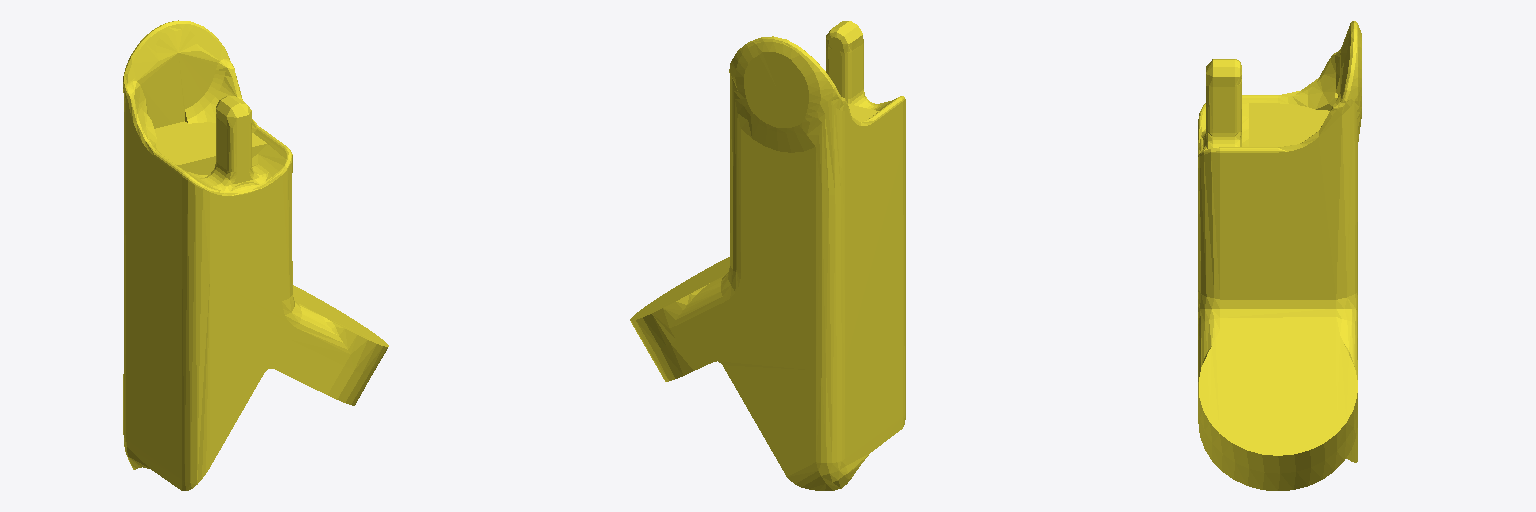
robot.urdf — shadow_hand:
<?xml version="1.0" ?>
<robot name="shadow_hand">

    <!-- Forearm-Wrist-Palm Links -->
    <link name="hand_root">
        <origin xyz="0 0 0"/>
    </link>
    <joint name="root_to_base" type="fixed">
        <parent link="hand_root"/>
        <child link="palm"/>
        <origin xyz="0 0 0.0"/>
    </joint>
    <link name="palm">
        <visual>
            <geometry name="palm_visual">
                <mesh filename="../shadow_hand/meshes/visual/palm.dae"/>
            </geometry>
        </visual>
        <inertial>
            <origin rpy="0 0 0" xyz="0 0 0.0"/>
            <mass value="0.4154"/>
            <inertia ixx="1e-4" ixy="0.0" ixz="0.0" iyy="1e-4" iyz="0.0" izz="1e-4"/>
        </inertial>
    </link>

    <!-- Thumb Links -->
    <link name="thumb_base">
        <inertial>
            <origin rpy="0 0 0" xyz="0 0 0.0"/>
            <mass value="0.4154"/>
            <inertia ixx="1e-4" ixy="0.0" ixz="0.0" iyy="1e-4" iyz="0.0" izz="1e-4"/>
        </inertial>
    </link>

    <link name="thumb_proximal">
        <visual>
            <geometry name="thumb_proximal_visual">
                <mesh filename="../shadow_hand/meshes/visual/thumb_proximal.dae"/>
            </geometry>
        </visual>
        <inertial>
            <origin rpy="0 0 0" xyz="0 0 0.0"/>
            <mass value="0.4154"/>
            <inertia ixx="1e-4" ixy="0.0" ixz="0.0" iyy="1e-4" iyz="0.0" izz="1e-4"/>
        </inertial>
    </link>

    <link name="thumb_hub">
        <inertial>
            <origin rpy="0 0 0" xyz="0 0 0.0"/>
            <mass value="0.4154"/>
            <inertia ixx="1e-4" ixy="0.0" ixz="0.0" iyy="1e-4" iyz="0.0" izz="1e-4"/>
        </inertial>
    </link>

    <link name="thumb_middle">
        <visual>
            <geometry name="thumb_middle_visual">
                <mesh filename="../shadow_hand/meshes/visual/thumb_middle.dae"/>
            </geometry>
        </visual>
        <inertial>
            <origin rpy="0 0 0" xyz="0 0 0.0"/>
            <mass value="0.4154"/>
            <inertia ixx="1e-4" ixy="0.0" ixz="0.0" iyy="1e-4" iyz="0.0" izz="1e-4"/>
        </inertial>
    </link>

    <link name="thumb_distal">
        <visual>
            <geometry name="thumb_distal_visual">
                <mesh filename="../shadow_hand/meshes/visual/thumb_distal.dae"/>
            </geometry>
        </visual>
        <inertial>
            <origin rpy="0 0 0" xyz="0 0 0.0"/>
            <mass value="0.4154"/>
            <inertia ixx="1e-4" ixy="0.0" ixz="0.0" iyy="1e-4" iyz="0.0" izz="1e-4"/>
        </inertial>
    </link>


    <!-- Thumb Joints -->
    <joint name="thumb_joint1" type="revolute">
        <parent link="palm"/>
        <child link="thumb_base"/>
        <origin rpy="0 0.785398163397 0.0" xyz="0.034 -0.0085 0.029"/>
        <axis xyz="0 0 -1"/>
        <limit effort="4.0" lower="-1.0471975512" upper="1.0471975512" velocity="4.0"/>
    </joint>

    <joint name="thumb_joint2" type="revolute">
        <parent link="thumb_base"/>
        <child link="thumb_proximal"/>
        <axis xyz="1 0 0"/>
        <limit effort="4.0" lower="0.0" upper="1.2217304764" velocity="4.0"/>
    </joint>

    <joint name="thumb_joint3" type="revolute">
        <parent link="thumb_proximal"/>
        <child link="thumb_hub"/>
        <origin rpy="0 0 0" xyz="0 0 0.038"/>
        <axis xyz="1 0 0"/>
        <limit effort="4.0" lower="-0.209439510239" upper="0.209439510239" velocity="4.0"/>
    </joint>

    <joint name="thumb_joint4" type="revolute">
        <parent link="thumb_hub"/>
        <child link="thumb_middle"/>
        <axis xyz="0 -1 0"/>
        <limit effort="4.0" lower="-0.698131700798" upper="0.698131700798" velocity="2.0"/>
    </joint>

    <joint name="thumb_joint5" type="revolute">
        <parent link="thumb_middle"/>
        <child link="thumb_distal"/>
        <origin rpy="0 0 -1.57079632679" xyz="0 0 0.032"/>
        <axis xyz="1 0 0"/>
        <limit effort="4.0" lower="0" upper="1.57079632679" velocity="4.0"/>
    </joint>


    <!-- Index Finger Links -->
    <link name="index_finger_knuckle">
        <visual>
            <origin rpy="0 0 0" xyz="0 0 0.0005"/>
            <geometry name="index_finger_knuckle_visual">
                <mesh filename="../shadow_hand/meshes/visual/knuckle.dae"/>
            </geometry>
        </visual>
        <inertial>
            <origin rpy="0 0 0" xyz="0 0 0.0"/>
            <mass value="0.4154"/>
            <inertia ixx="1e-4" ixy="0.0" ixz="0.0" iyy="1e-4" iyz="0.0" izz="1e-4"/>
        </inertial>
    </link>

    <link name="index_finger_proximal">
        <visual>
            <geometry name="index_finger_proximal_visual">
                <mesh filename="../shadow_hand/meshes/visual/finger_proximal.dae"/>
            </geometry>
        </visual>
        <inertial>
            <origin rpy="0 0 0" xyz="0 0 0.0"/>
            <mass value="0.4154"/>
            <inertia ixx="1e-4" ixy="0.0" ixz="0.0" iyy="1e-4" iyz="0.0" izz="1e-4"/>
        </inertial>
    </link>

    <link name="index_finger_middle">
        <visual>
            <geometry name="index_finger_middle_visual">
                <mesh filename="../shadow_hand/meshes/visual/finger_middle.dae"/>
            </geometry>
        </visual>
        <inertial>
            <origin rpy="0 0 0" xyz="0 0 0.0"/>
            <mass value="0.4154"/>
            <inertia ixx="1e-4" ixy="0.0" ixz="0.0" iyy="1e-4" iyz="0.0" izz="1e-4"/>
        </inertial>
    </link>

    <link name="index_finger_distal">
        <visual>
            <geometry name="index_finger_distal_visual">
                <mesh filename="../shadow_hand/meshes/visual/finger_distal.dae"/>
            </geometry>
        </visual>
        <inertial>
            <origin rpy="0 0 0" xyz="0 0 0.0"/>
            <mass value="0.4154"/>
            <inertia ixx="1e-4" ixy="0.0" ixz="0.0" iyy="1e-4" iyz="0.0" izz="1e-4"/>
        </inertial>
    </link>


    <!-- Index Finger Joints -->
    <joint name="index_finger_joint1" type="revolute">
        <parent link="palm"/>
        <child link="index_finger_knuckle"/>
        <origin rpy="0 0 0" xyz="0.033 0 0.095"/>
        <axis xyz="0 -1 0"/>
        <limit effort="4.0" lower="-0.349065850399" upper="0.349065850399" velocity="2.0"/>
    </joint>

    <joint name="index_finger_joint2" type="revolute">
        <parent link="index_finger_knuckle"/>
        <child link="index_finger_proximal"/>
        <axis xyz="1 0 0"/>
        <limit effort="4.0" lower="0" upper="1.57079632679" velocity="2.0"/>
    </joint>

    <joint name="index_finger_joint3" type="revolute">
        <parent link="index_finger_proximal"/>
        <child link="index_finger_middle"/>
        <origin rpy="0 0 0" xyz="0 0 0.045"/>
        <axis xyz="1 0 0"/>
        <limit effort="4.0" lower="0" upper="1.57079632679" velocity="2.0"/>
    </joint>

    <joint name="index_finger_joint4" type="revolute">
        <parent link="index_finger_middle"/>
        <child link="index_finger_distal"/>
        <origin rpy="0 0 0" xyz="0 0 0.025"/>
        <axis xyz="1 0 0"/>
        <limit effort="4.0" lower="0" upper="1.57079632679" velocity="2.0"/>
    </joint>


    <!-- Middle Finger Links -->
    <link name="middle_finger_knuckle">
        <visual>
            <origin rpy="0 0 0" xyz="0 0 0.0005"/>
            <geometry name="middle_finger_knuckle_visual">
                <mesh filename="../shadow_hand/meshes/visual/knuckle.dae"/>
            </geometry>
        </visual>
        <inertial>
            <origin rpy="0 0 0" xyz="0 0 0.0"/>
            <mass value="0.4154"/>
            <inertia ixx="1e-4" ixy="0.0" ixz="0.0" iyy="1e-4" iyz="0.0" izz="1e-4"/>
        </inertial>
    </link>

    <link name="middle_finger_proximal">
        <visual>
            <geometry name="middle_finger_proximal_visual">
                <mesh filename="../shadow_hand/meshes/visual/finger_proximal.dae"/>
            </geometry>
        </visual>
        <inertial>
            <origin rpy="0 0 0" xyz="0 0 0.0"/>
            <mass value="0.4154"/>
            <inertia ixx="1e-4" ixy="0.0" ixz="0.0" iyy="1e-4" iyz="0.0" izz="1e-4"/>
        </inertial>
    </link>

    <link name="middle_finger_middle">
        <visual>
            <geometry name="middle_finger_middle_visual">
                <mesh filename="../shadow_hand/meshes/visual/finger_middle.dae"/>
            </geometry>
        </visual>
        <inertial>
            <origin rpy="0 0 0" xyz="0 0 0.0"/>
            <mass value="0.4154"/>
            <inertia ixx="1e-4" ixy="0.0" ixz="0.0" iyy="1e-4" iyz="0.0" izz="1e-4"/>
        </inertial>
    </link>

    <link name="middle_finger_distal">
        <visual>
            <geometry name="middle_finger_distal_visual">
                <mesh filename="../shadow_hand/meshes/visual/finger_distal.dae"/>
            </geometry>
        </visual>
        <inertial>
            <origin rpy="0 0 0" xyz="0 0 0.0"/>
            <mass value="0.4154"/>
            <inertia ixx="1e-4" ixy="0.0" ixz="0.0" iyy="1e-4" iyz="0.0" izz="1e-4"/>
        </inertial>
    </link>


    <!-- Middle Finger Joints -->
    <joint name="middle_finger_joint1" type="revolute">
        <parent link="palm"/>
        <child link="middle_finger_knuckle"/>
        <origin rpy="0 0 0" xyz="0.011 0 0.099"/>
        <axis xyz="0 -1 0"/>
        <limit effort="4.0" lower="-0.349065850399" upper="0.349065850399" velocity="2.0"/>
    </joint>

    <joint name="middle_finger_joint2" type="revolute">
        <parent link="middle_finger_knuckle"/>
        <child link="middle_finger_proximal"/>
        <axis xyz="1 0 0"/>
        <limit effort="4.0" lower="0" upper="1.57079632679" velocity="2.0"/>
    </joint>

    <joint name="middle_finger_joint3" type="revolute">
        <parent link="middle_finger_proximal"/>
        <child link="middle_finger_middle"/>
        <origin rpy="0 0 0" xyz="0 0 0.045"/>
        <axis xyz="1 0 0"/>
        <limit effort="4.0" lower="0" upper="1.57079632679" velocity="2.0"/>
    </joint>

    <joint name="middle_finger_joint4" type="revolute">
        <parent link="middle_finger_middle"/>
        <child link="middle_finger_distal"/>
        <origin rpy="0 0 0" xyz="0 0 0.025"/>
        <axis xyz="1 0 0"/>
        <limit effort="4.0" lower="0" upper="1.57079632679" velocity="2.0"/>
    </joint>


    <!-- Ring Finger Links -->
    <link name="ring_finger_knuckle">
        <visual>
            <origin rpy="0 0 0" xyz="0 0 0.0005"/>
            <geometry name="ring_finger_knuckle_visual">
                <mesh filename="../shadow_hand/meshes/visual/knuckle.dae"/>
            </geometry>
        </visual>
        <inertial>
            <origin rpy="0 0 0" xyz="0 0 0.0"/>
            <mass value="0.4154"/>
            <inertia ixx="1e-4" ixy="0.0" ixz="0.0" iyy="1e-4" iyz="0.0" izz="1e-4"/>
        </inertial>
    </link>

    <link name="ring_finger_proximal">
        <visual>
            <geometry name="ring_finger_proximal_visual">
                <mesh filename="../shadow_hand/meshes/visual/finger_proximal.dae"/>
            </geometry>
        </visual>
        <inertial>
            <origin rpy="0 0 0" xyz="0 0 0.0"/>
            <mass value="0.4154"/>
            <inertia ixx="1e-4" ixy="0.0" ixz="0.0" iyy="1e-4" iyz="0.0" izz="1e-4"/>
        </inertial>
    </link>

    <link name="ring_finger_middle">
        <visual>
            <geometry name="ring_finger_middle_visual">
                <mesh filename="../shadow_hand/meshes/visual/finger_middle.dae"/>
            </geometry>
        </visual>
        <inertial>
            <origin rpy="0 0 0" xyz="0 0 0.0"/>
            <mass value="0.4154"/>
            <inertia ixx="1e-4" ixy="0.0" ixz="0.0" iyy="1e-4" iyz="0.0" izz="1e-4"/>
        </inertial>
    </link>

    <link name="ring_finger_distal">
        <visual>
            <geometry name="ring_finger_distal_visual">
                <mesh filename="../shadow_hand/meshes/visual/finger_distal.dae"/>
            </geometry>
        </visual>
        <inertial>
            <origin rpy="0 0 0" xyz="0 0 0.0"/>
            <mass value="0.4154"/>
            <inertia ixx="1e-4" ixy="0.0" ixz="0.0" iyy="1e-4" iyz="0.0" izz="1e-4"/>
        </inertial>
    </link>


    <!-- Ring Finger Joints -->
    <joint name="ring_finger_joint1" type="revolute">
        <parent link="palm"/>
        <child link="ring_finger_knuckle"/>
        <origin rpy="0 0 0" xyz="-0.011 0 0.095"/>
        <axis xyz="0 1 0"/>
        <limit effort="4.0" lower="-0.349065850399" upper="0.349065850399" velocity="2.0"/>
    </joint>

    <joint name="ring_finger_joint2" type="revolute">
        <parent link="ring_finger_knuckle"/>
        <child link="ring_finger_proximal"/>
        <axis xyz="1 0 0"/>
        <limit effort="4.0" lower="0" upper="1.57079632679" velocity="2.0"/>
    </joint>

    <joint name="ring_finger_joint3" type="revolute">
        <parent link="ring_finger_proximal"/>
        <child link="ring_finger_middle"/>
        <origin rpy="0 0 0" xyz="0 0 0.045"/>
        <axis xyz="1 0 0"/>
        <limit effort="4.0" lower="0" upper="1.57079632679" velocity="2.0"/>
    </joint>

    <joint name="ring_finger_joint4" type="revolute">
        <parent link="ring_finger_middle"/>
        <child link="ring_finger_distal"/>
        <origin rpy="0 0 0" xyz="0 0 0.025"/>
        <axis xyz="1 0 0"/>
        <limit effort="4.0" lower="0" upper="1.57079632679" velocity="2.0"/>
    </joint>


    <!-- Little Finger Links -->
    <link name="little_finger_metacarpal">
        <visual>
            <geometry name="little_finger_metacarpal_visual">
                <mesh filename="../shadow_hand/meshes/collision/metacarpal.stl"/>
            </geometry>
        </visual>
        <inertial>
            <origin rpy="0 0 0" xyz="0 0 0.0"/>
            <mass value="0.4154"/>
            <inertia ixx="1e-4" ixy="0.0" ixz="0.0" iyy="1e-4" iyz="0.0" izz="1e-4"/>
        </inertial>
    </link>

    <link name="little_finger_knuckle">
        <visual>
            <origin rpy="0 0 0" xyz="0 0 0.0005"/>
            <geometry name="little_finger_knuckle_visual">
                <mesh filename="../shadow_hand/meshes/visual/knuckle.dae"/>
            </geometry>
        </visual>
        <inertial>
            <origin rpy="0 0 0" xyz="0 0 0.0"/>
            <mass value="0.4154"/>
            <inertia ixx="1e-4" ixy="0.0" ixz="0.0" iyy="1e-4" iyz="0.0" izz="1e-4"/>
        </inertial>
    </link>

    <link name="little_finger_proximal">
        <visual>
            <geometry name="little_finger_proximal_visual">
                <mesh filename="../shadow_hand/meshes/visual/finger_proximal.dae"/>
            </geometry>
        </visual>
        <inertial>
            <origin rpy="0 0 0" xyz="0 0 0.0"/>
            <mass value="0.4154"/>
            <inertia ixx="1e-4" ixy="0.0" ixz="0.0" iyy="1e-4" iyz="0.0" izz="1e-4"/>
        </inertial>
    </link>

    <link name="little_finger_middle">
        <visual>
            <geometry name="little_finger_middle_visual">
                <mesh filename="../shadow_hand/meshes/visual/finger_middle.dae"/>
            </geometry>
        </visual>
        <inertial>
            <origin rpy="0 0 0" xyz="0 0 0.0"/>
            <mass value="0.4154"/>
            <inertia ixx="1e-4" ixy="0.0" ixz="0.0" iyy="1e-4" iyz="0.0" izz="1e-4"/>
        </inertial>
    </link>

    <link name="little_finger_distal">
        <visual>
            <geometry name="little_finger_distal_visual">
                <mesh filename="../shadow_hand/meshes/visual/finger_distal.dae"/>
            </geometry>
        </visual>
        <inertial>
            <origin rpy="0 0 0" xyz="0 0 0.0"/>
            <mass value="0.4154"/>
            <inertia ixx="1e-4" ixy="0.0" ixz="0.0" iyy="1e-4" iyz="0.0" izz="1e-4"/>
        </inertial>
    </link>


    <!-- Little Finger Joints -->
    <joint name="little_finger_joint1" type="revolute">
        <parent link="palm"/>
        <child link="little_finger_metacarpal"/>
        <origin rpy="0 0 0" xyz="-0.033 0 0.02071"/>
        <axis xyz="0.573576436 0 0.819152044"/>
        <limit effort="4.0" lower="0" upper="0.785398163397" velocity="2.0"/>
    </joint>

    <joint name="little_finger_joint2" type="revolute">
        <parent link="little_finger_metacarpal"/>
        <child link="little_finger_knuckle"/>
        <origin rpy="0 0 0" xyz="0 0 0.06579"/>
        <axis xyz="0 1 0"/>
        <limit effort="4.0" lower="-0.349065850399" upper="0.349065850399" velocity="2.0"/>
    </joint>

    <joint name="little_finger_joint3" type="revolute">
        <parent link="little_finger_knuckle"/>
        <child link="little_finger_proximal"/>
        <axis xyz="1 0 0"/>
        <limit effort="4.0" lower="0" upper="1.57079632679" velocity="2.0"/>
    </joint>

    <joint name="little_finger_joint4" type="revolute">
        <parent link="little_finger_proximal"/>
        <child link="little_finger_middle"/>
        <origin rpy="0 0 0" xyz="0 0 0.045"/>
        <axis xyz="1 0 0"/>
        <limit effort="4.0" lower="0" upper="1.57079632679" velocity="2.0"/>
    </joint>

    <joint name="little_finger_joint5" type="revolute">
        <parent link="little_finger_middle"/>
        <child link="little_finger_distal"/>
        <origin rpy="0 0 0" xyz="0 0 0.025"/>
        <axis xyz="1 0 0"/>
        <limit effort="4.0" lower="0" upper="1.57079632679" velocity="2.0"/>
    </joint>

</robot>

--- What the picture shows (computed from the rendered views, not written in the file) ---
3 views of the same robot in one strip: view 1: azimuth 30°, elevation 25°; view 2: azimuth 150°, elevation 25°; view 3: azimuth 270°, elevation 25° (orthographic).
Robot: shadow_hand — 24 links, 23 joints (22 revolute, 1 fixed); root link hand_root; default pose: all joints at 0.
Links seen in each view (by area): view 1: little_finger_metacarpal; view 2: little_finger_metacarpal; view 3: little_finger_metacarpal.
Link boxes in pixels (x1,y1,x2,y2): little_finger_metacarpal: (123,20,388,490); little_finger_metacarpal: (630,21,905,490); little_finger_metacarpal: (1198,21,1361,490).
Size in the robot's own frame: 0.0373 by 0.0225 by 0.0685 metres.
Meshes: 9 distinct files referenced, 1 mesh visuals loaded (1 binary STL); not drawn: 20 (reference not matched to a file when rendering).